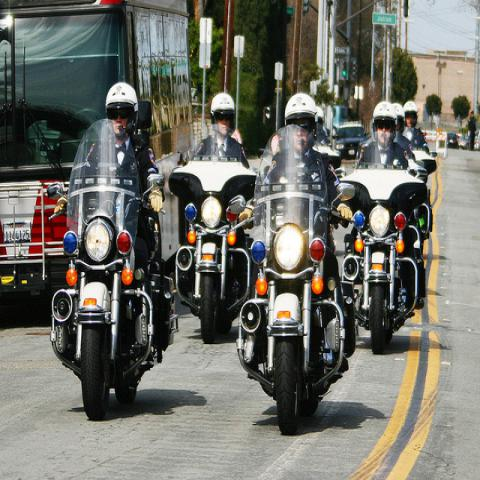bus: (0, 0, 193, 295)
car: (334, 120, 367, 158), (456, 134, 470, 150), (448, 132, 460, 149)
motorcycle: (45, 114, 177, 416), (235, 124, 348, 439), (168, 122, 257, 346), (342, 127, 420, 354), (408, 157, 431, 241), (410, 146, 437, 175)
